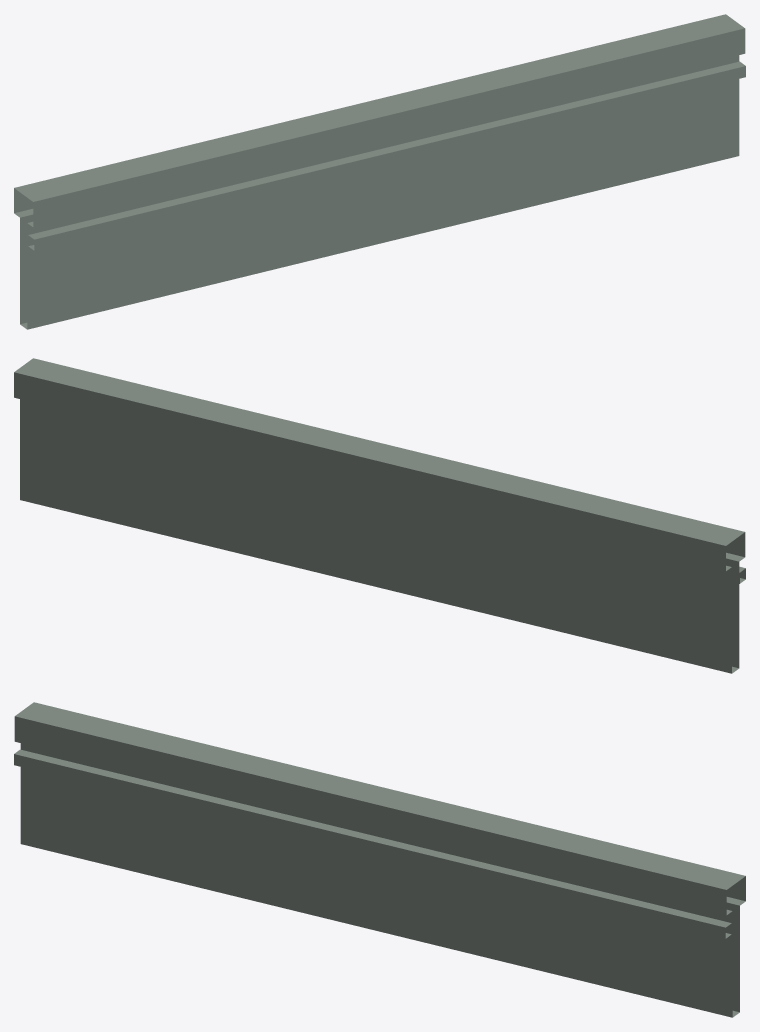
Rendered from SM_border_01.fbx.
The picture shows the model from 3 angles, top to bottom: view 1: azimuth 30°, elevation 25°; view 2: azimuth 150°, elevation 25°; view 3: azimuth 330°, elevation 25°; orthographic projection.
Parts seen in each view (by area): view 1: border_01; view 2: border_01; view 3: border_01.
Part boxes in pixels (<box>): border_01: <box>14,14,745,329</box>; border_01: <box>14,358,745,673</box>; border_01: <box>14,702,745,1017</box>.
Size of the model in its own units: 200 by 35.46 by 9.81.
